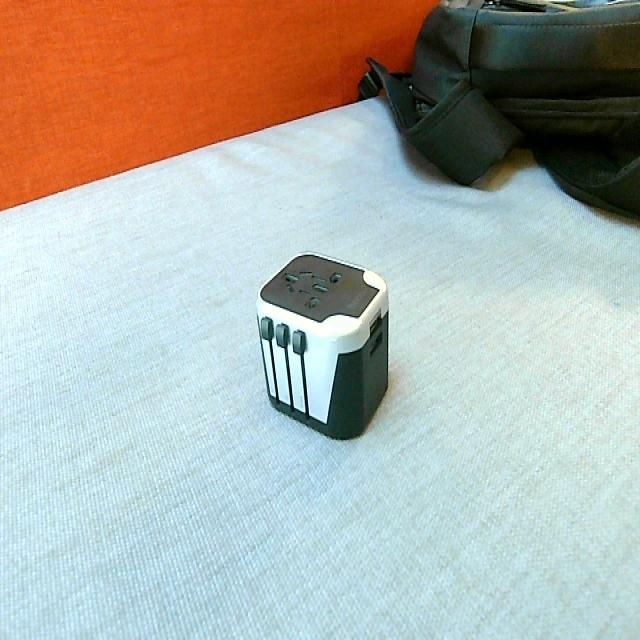adapter: (254, 251, 389, 440)
